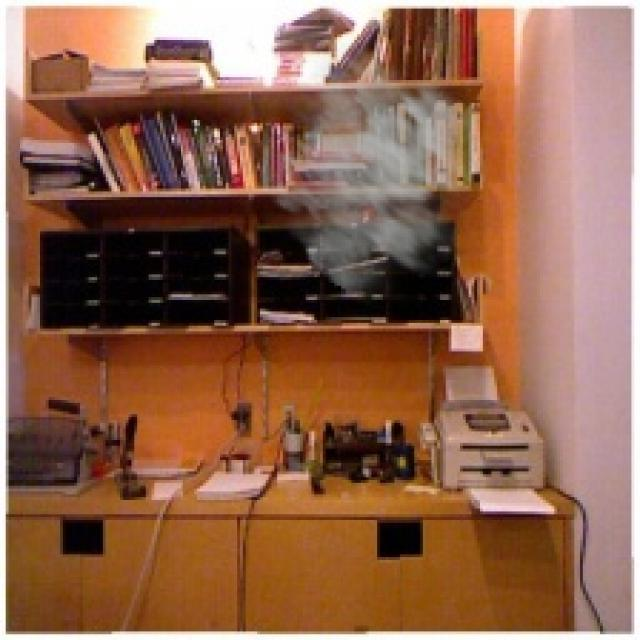Smoke: (263, 37, 506, 312)
